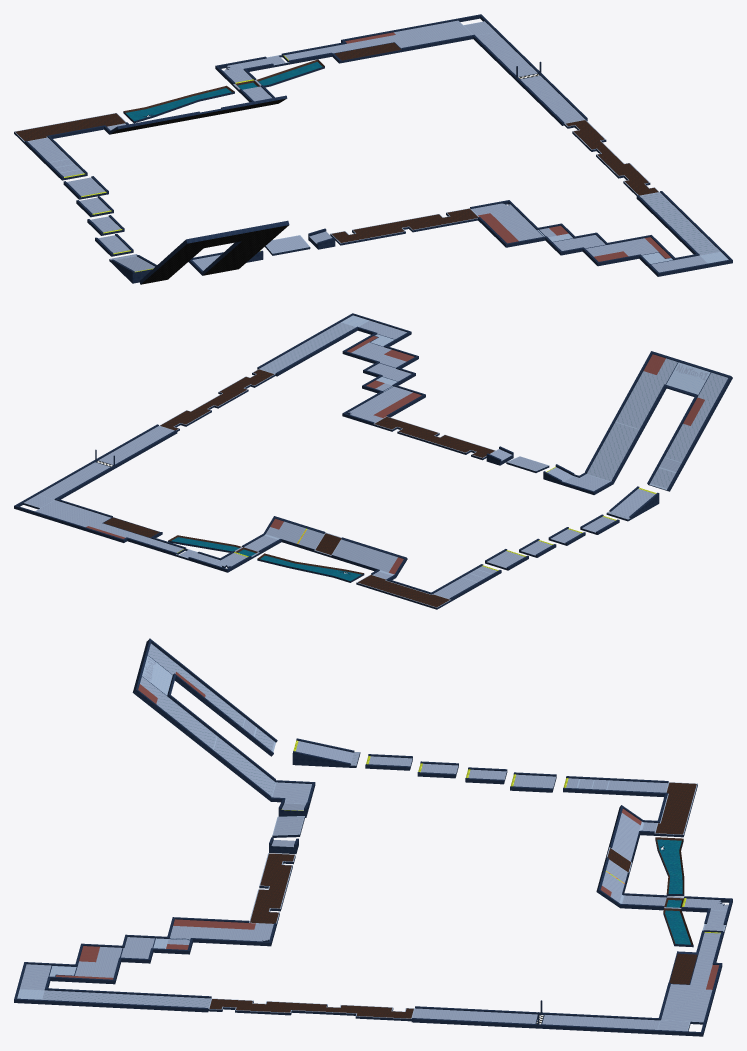
The picture shows the model from 3 angles, top to bottom: view 1: azimuth 30°, elevation 25°; view 2: azimuth 150°, elevation 25°; view 3: azimuth 270°, elevation 25°; orthographic projection. The views are drawn at different scales.
Visible parts, largest first — view 1: GBA_BC3reMaK8_Main-Mur, GBA_BC3reMaK8_Main-Road1, GBA_BC3reMaK8_Main-Road5, GBA_BC3reMaK8_Main-Road2, GBA_BC3reMaK8_Main-Dessous, GBA_BC3reMaK8_Main-Road4, GBA_BC3reMaK8_Main-Road3, GBA_BC3reMaK8_Main-Eau, GBA_BC3reMaK8_Main-Offroad; view 2: GBA_BC3reMaK8_Main-Mur, GBA_BC3reMaK8_Main-Road1, GBA_BC3reMaK8_Main-Road3, GBA_BC3reMaK8_Main-Road2, GBA_BC3reMaK8_Main-Road5, GBA_BC3reMaK8_Main-Road4, GBA_BC3reMaK8_Main-Offroad, GBA_BC3reMaK8_Main-Eau; view 3: GBA_BC3reMaK8_Main-Mur, GBA_BC3reMaK8_Main-Road1, GBA_BC3reMaK8_Main-Road5, GBA_BC3reMaK8_Main-Road2, GBA_BC3reMaK8_Main-Road3, GBA_BC3reMaK8_Main-Road4, GBA_BC3reMaK8_Main-Offroad, GBA_BC3reMaK8_Main-Eau.
Part boxes in pixels (x1=…): GBA_BC3reMaK8_Main-Mur: x1=14, y1=14, x2=732, y2=284; GBA_BC3reMaK8_Main-Road1: x1=28, y1=32, x2=658, y2=271; GBA_BC3reMaK8_Main-Road5: x1=15, y1=42, x2=658, y2=242; GBA_BC3reMaK8_Main-Road2: x1=193, y1=20, x2=707, y2=272; GBA_BC3reMaK8_Main-Dessous: x1=110, y1=98, x2=288, y2=284; GBA_BC3reMaK8_Main-Road4: x1=14, y1=21, x2=728, y2=263; GBA_BC3reMaK8_Main-Road3: x1=110, y1=192, x2=720, y2=260; GBA_BC3reMaK8_Main-Eau: x1=126, y1=62, x2=322, y2=121; GBA_BC3reMaK8_Main-Offroad: x1=345, y1=32, x2=670, y2=261; GBA_BC3reMaK8_Main-Mur: x1=14, y1=313, x2=732, y2=609; GBA_BC3reMaK8_Main-Road1: x1=39, y1=342, x2=707, y2=598; GBA_BC3reMaK8_Main-Road3: x1=259, y1=322, x2=727, y2=519; GBA_BC3reMaK8_Main-Road2: x1=24, y1=320, x2=609, y2=572; GBA_BC3reMaK8_Main-Road5: x1=103, y1=369, x2=494, y2=607; GBA_BC3reMaK8_Main-Road4: x1=24, y1=315, x2=710, y2=607; GBA_BC3reMaK8_Main-Offroad: x1=86, y1=336, x2=704, y2=574; GBA_BC3reMaK8_Main-Eau: x1=171, y1=537, x2=361, y2=580; GBA_BC3reMaK8_Main-Mur: x1=14, y1=638, x2=732, y2=1036; GBA_BC3reMaK8_Main-Road1: x1=75, y1=657, x2=728, y2=1029; GBA_BC3reMaK8_Main-Road5: x1=209, y1=782, x2=697, y2=1018; GBA_BC3reMaK8_Main-Road2: x1=20, y1=782, x2=726, y2=1031; GBA_BC3reMaK8_Main-Road3: x1=42, y1=643, x2=359, y2=1008; GBA_BC3reMaK8_Main-Road4: x1=17, y1=655, x2=726, y2=1031; GBA_BC3reMaK8_Main-Offroad: x1=56, y1=672, x2=718, y2=989; GBA_BC3reMaK8_Main-Eau: x1=657, y1=839, x2=690, y2=944.
Bounding box in the file's own units: 82029 × 13826 × 85151.
Materials: 13 (13 with a texture image).
